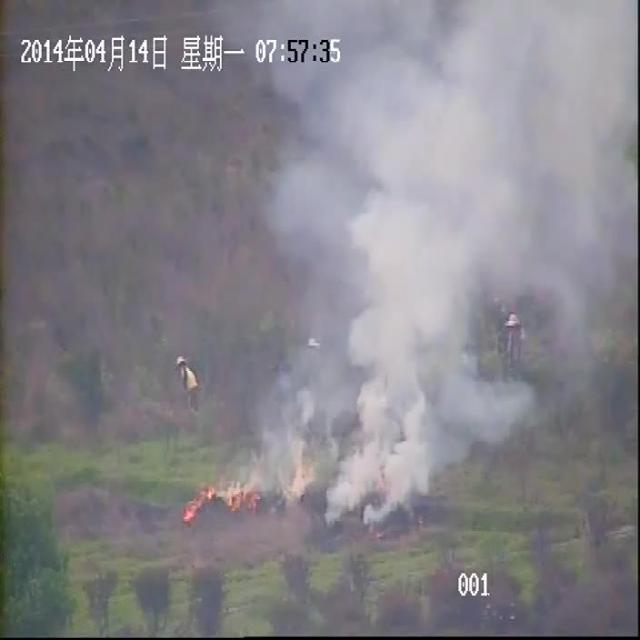fire: (281, 456, 314, 502), (182, 484, 213, 524), (224, 484, 261, 514)
smoke: (222, 2, 634, 527)
